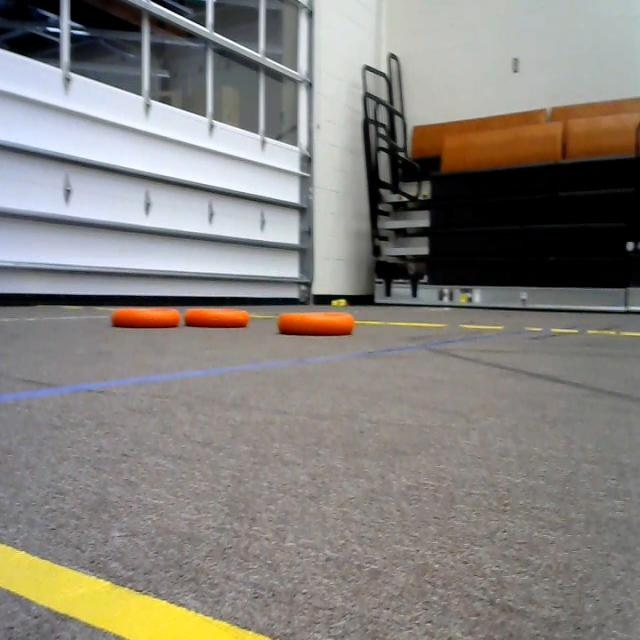note: (275, 308, 365, 338), (110, 299, 183, 333), (180, 300, 255, 333)
